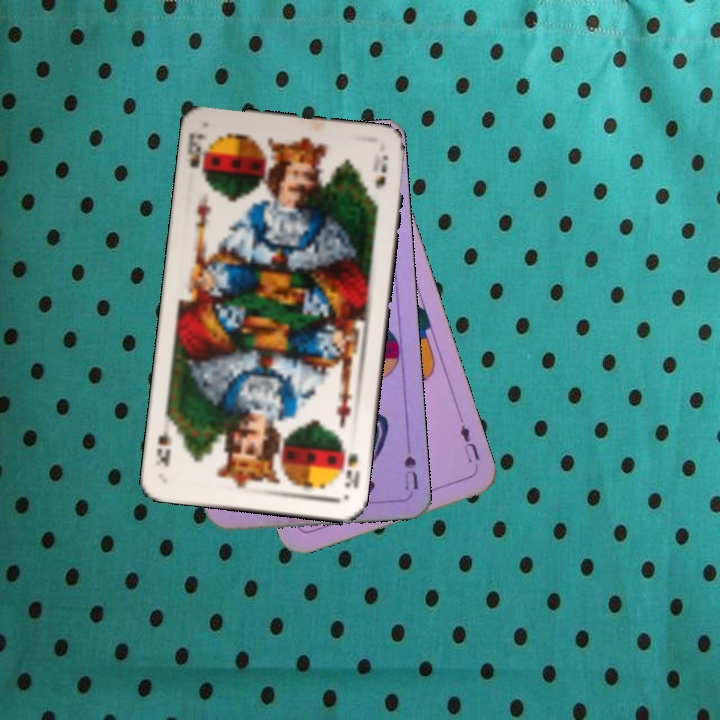EU: (456, 420, 483, 466)
SK: (184, 129, 212, 184), (341, 449, 362, 491)
SU: (400, 434, 421, 493)
